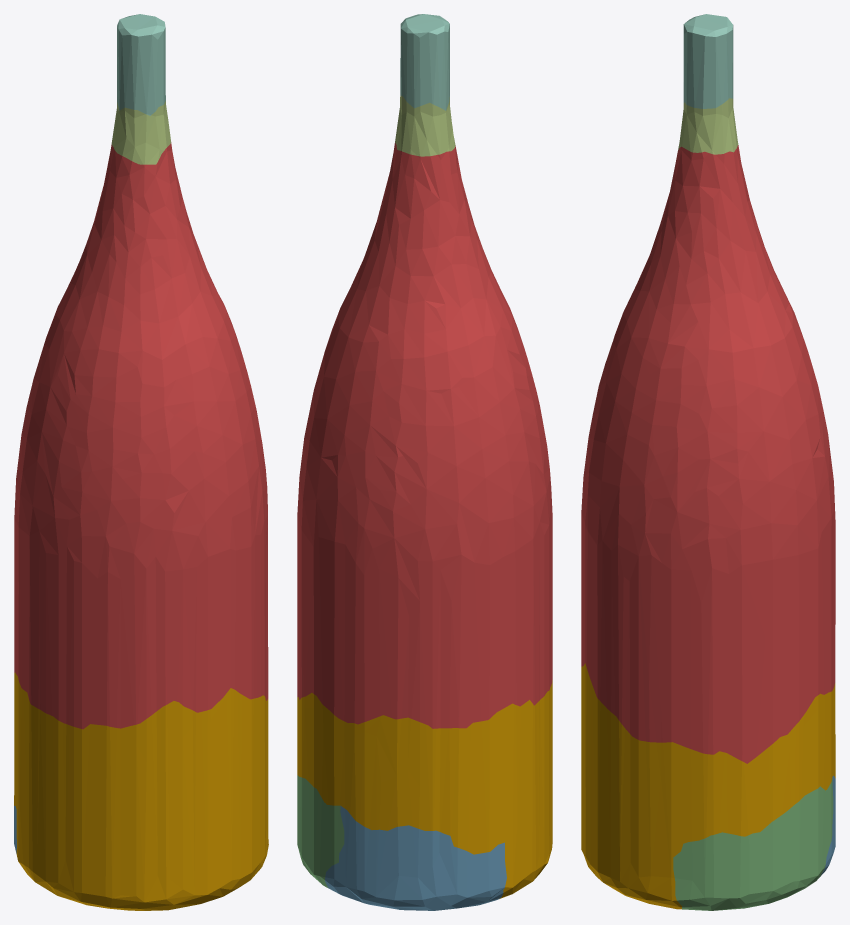
File: fractured_56_6pcs.glb
3 views of the same model, side by side, from view 1: azimuth 30°, elevation 25°; view 2: azimuth 150°, elevation 25°; view 3: azimuth 270°, elevation 25° (orthographic).
Visible parts, largest first — view 1: piece_1.obj, piece_0.obj, piece_4.obj, piece_5.obj; view 2: piece_1.obj, piece_0.obj, piece_2.obj, piece_4.obj, piece_3.obj, piece_5.obj; view 3: piece_1.obj, piece_0.obj, piece_3.obj, piece_4.obj, piece_5.obj.
Boxes of the visible parts, x1,y1,x2,y2 form: piece_1.obj: (14, 142, 268, 729); piece_0.obj: (14, 672, 268, 910); piece_4.obj: (117, 14, 165, 115); piece_5.obj: (111, 101, 170, 164); piece_1.obj: (297, 142, 552, 728); piece_0.obj: (297, 680, 552, 898); piece_2.obj: (325, 806, 506, 910); piece_4.obj: (400, 14, 449, 110); piece_3.obj: (297, 775, 344, 887); piece_5.obj: (395, 95, 455, 156); piece_1.obj: (581, 145, 835, 763); piece_0.obj: (581, 663, 835, 909); piece_3.obj: (673, 777, 833, 910); piece_4.obj: (683, 14, 733, 108); piece_5.obj: (678, 98, 738, 154).
Size of the model in its own units: 0.2734 by 1 by 0.2733.
